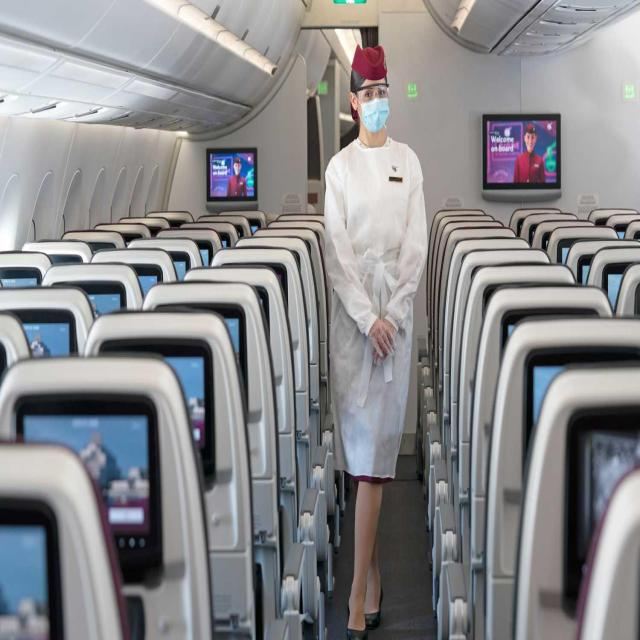Goggles: (356, 82, 390, 110)
Mask: (361, 101, 389, 128)
